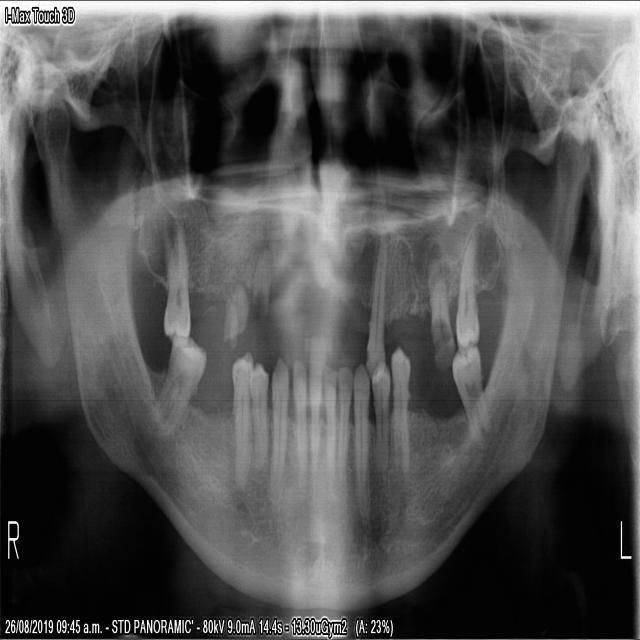LCD: (350, 359, 370, 512)
LCU: (363, 223, 388, 387)
LID: (335, 361, 351, 498), (322, 360, 336, 498)
LMD: (448, 342, 491, 455)
LMU: (452, 224, 480, 352)
LPMD: (388, 343, 410, 486)
LPMU: (369, 358, 389, 485)
RCD: (269, 351, 288, 496)
RID: (289, 355, 306, 516)
RMD: (150, 332, 206, 440)
RMU: (157, 222, 190, 349)
RPMD: (229, 348, 253, 489), (246, 356, 268, 476)
